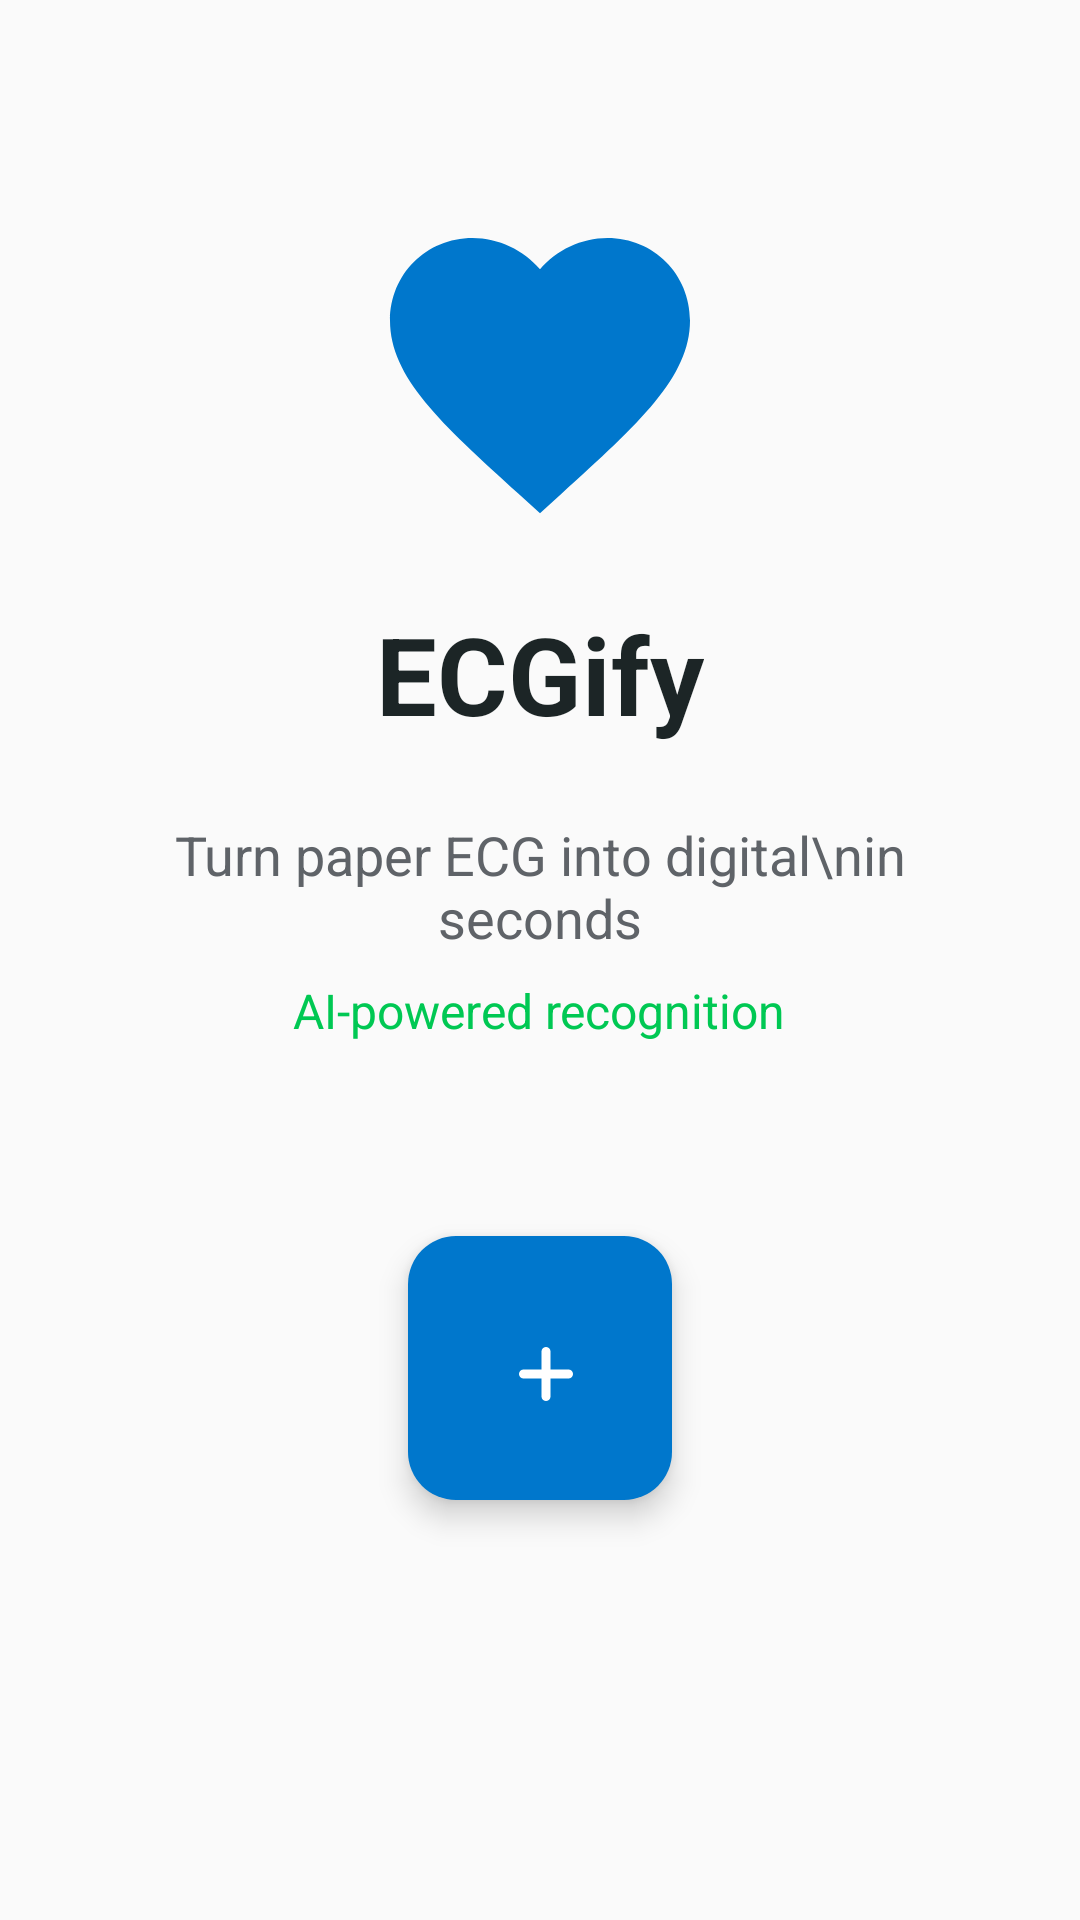

Icons on this 1080*1920 Android screen, each with its box as region(x1, y1, x2, y2):
ecg heart: region(390, 238, 690, 513)
